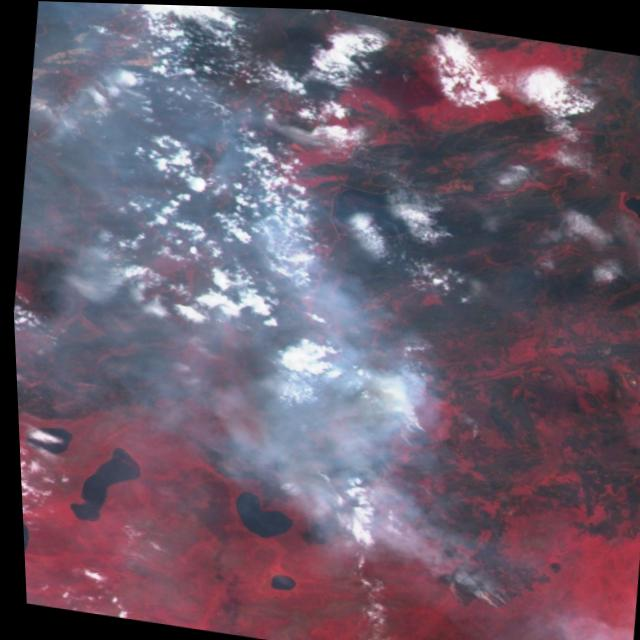fire: (348, 400, 559, 623)
